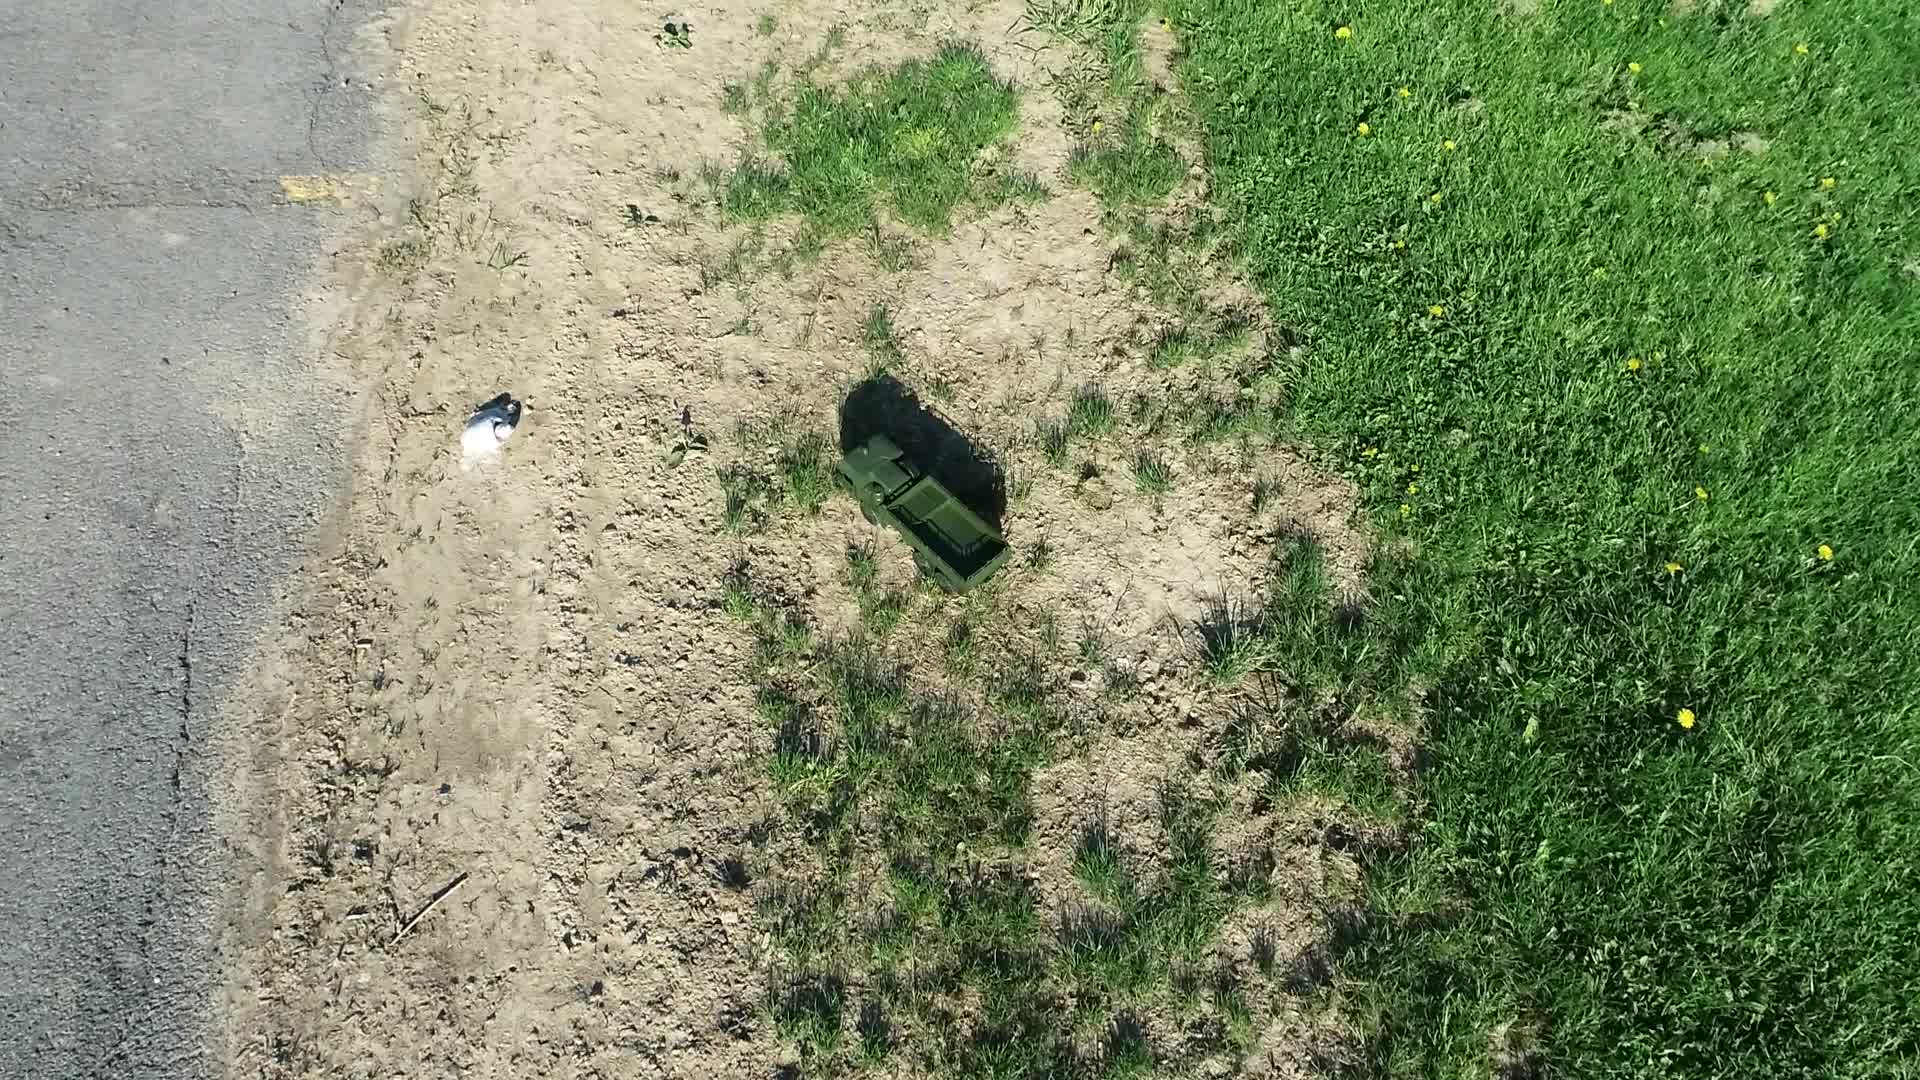transporter9: (810, 417, 1023, 609)
